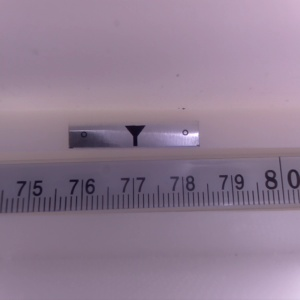0: (286, 170, 300, 190)
5: (32, 181, 42, 196)
6: (84, 178, 95, 194)
7: (15, 181, 26, 196), (135, 177, 145, 193), (68, 179, 78, 195), (119, 177, 129, 193), (169, 176, 178, 191), (218, 175, 227, 190)
8: (264, 170, 277, 189), (185, 175, 195, 191)
9: (233, 175, 243, 190)
finger: (123, 125, 147, 148)
